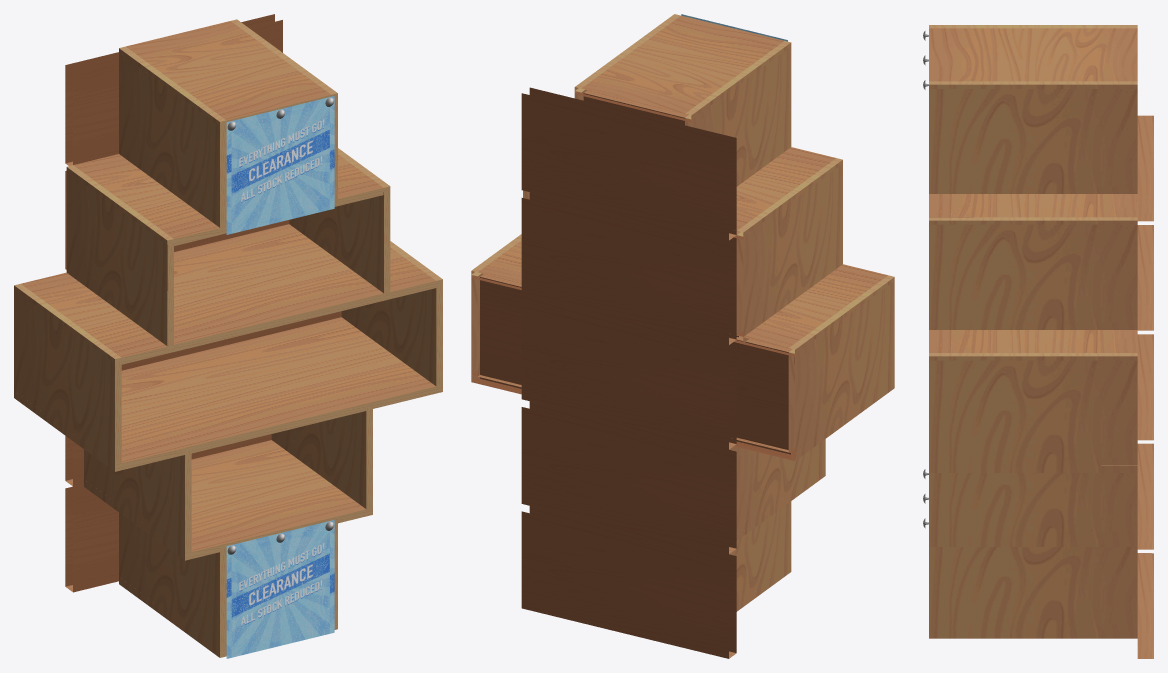
The model's file is layout_poster_diamond_shape_9c.fbx.
The picture shows the model from 3 angles, left to right: view 1: azimuth 30°, elevation 25°; view 2: azimuth 150°, elevation 25°; view 3: azimuth 270°, elevation 25°; orthographic projection. The views are drawn at different scales.
Parts seen in each view (by area): view 1: Shelf-BM-00 1, Shelf-BM-00 2, Shelf-BM-00, Mesh-Poster-Small01 1, Mesh-Poster-Small01, Shelf-CL-01 1, Shelf-CL-01 2, Shelf-CL-01 4, Shelf-TM-00 4, Shelf-TM-00 1, Shelf-CL-01 3, Shelf-Back-00 (1) 4 (+17 smaller); view 2: Shelf-Back-00 (1) 4, Shelf-Back-00 (1) 2, Shelf-Back-00 (1) 1, Shelf-Back-00 (1), Shelf-Back-00 (1) 3, Shelf-CL-01 2, Shelf-CL-01 1, Shelf-TM-00 4, Shelf-Back-00 1, Shelf-CL-01 4, Shelf-TM-00 1, Shelf-CL-01 (+11 smaller); view 3: Shelf-CR-01 1, Shelf-CR-01 2, Shelf-CR-01 4, Shelf-CR-01 3, Shelf-CR-01, Shelf-TM-00 4, Shelf-TM-00 2, Shelf-TM-00 1, Shelf-Back-00 (1), Shelf-Back-00 (1) 1, Shelf-Back-00 (1) 4, Shelf-Back-00 (1) 2 (+8 smaller).
Part boxes in pixels (x1,y1,x2,y2): Shelf-BM-00 1: [121, 317, 436, 469]; Shelf-BM-00 2: [174, 224, 383, 349]; Shelf-BM-00: [191, 440, 366, 558]; Mesh-Poster-Small01 1: [226, 520, 334, 658]; Mesh-Poster-Small01: [226, 96, 334, 234]; Shelf-CL-01 1: [14, 289, 121, 464]; Shelf-CL-01 2: [66, 171, 173, 345]; Shelf-CL-01 4: [119, 52, 226, 227]; Shelf-TM-00 4: [126, 21, 331, 121]; Shelf-TM-00 1: [21, 247, 436, 364]; Shelf-CL-01 3: [119, 513, 226, 650]; Shelf-Back-00 (1) 4: [65, 14, 282, 165]; Shelf-Back-00 (1) 4: [521, 87, 736, 240]; Shelf-Back-00 (1) 2: [521, 192, 736, 345]; Shelf-Back-00 (1) 1: [521, 297, 736, 449]; Shelf-Back-00 (1): [521, 401, 736, 554]; Shelf-Back-00 (1) 3: [521, 506, 736, 658]; Shelf-CL-01 2: [736, 164, 842, 336]; Shelf-CL-01 1: [788, 281, 894, 453]; Shelf-TM-00 4: [581, 15, 784, 120]; Shelf-Back-00 1: [480, 274, 794, 454]; Shelf-CL-01 4: [685, 47, 791, 186]; Shelf-TM-00 1: [478, 240, 887, 355]; Shelf-CL-01: [729, 439, 825, 533]; Shelf-CR-01 1: [929, 360, 1137, 465]; Shelf-CR-01 2: [929, 224, 1137, 329]; Shelf-CR-01 4: [929, 89, 1137, 193]; Shelf-CR-01 3: [929, 547, 1137, 631]; Shelf-CR-01: [929, 473, 1137, 539]; Shelf-TM-00 4: [929, 28, 1137, 81]; Shelf-TM-00 2: [929, 194, 1137, 217]; Shelf-TM-00 1: [929, 330, 1137, 352]; Shelf-Back-00 (1): [1137, 443, 1153, 549]; Shelf-Back-00 (1) 1: [1137, 334, 1153, 440]; Shelf-Back-00 (1) 4: [1137, 115, 1153, 221]; Shelf-Back-00 (1) 2: [1137, 225, 1153, 330].
Bounding box in the file's own units: 150 × 235 × 88.54.
